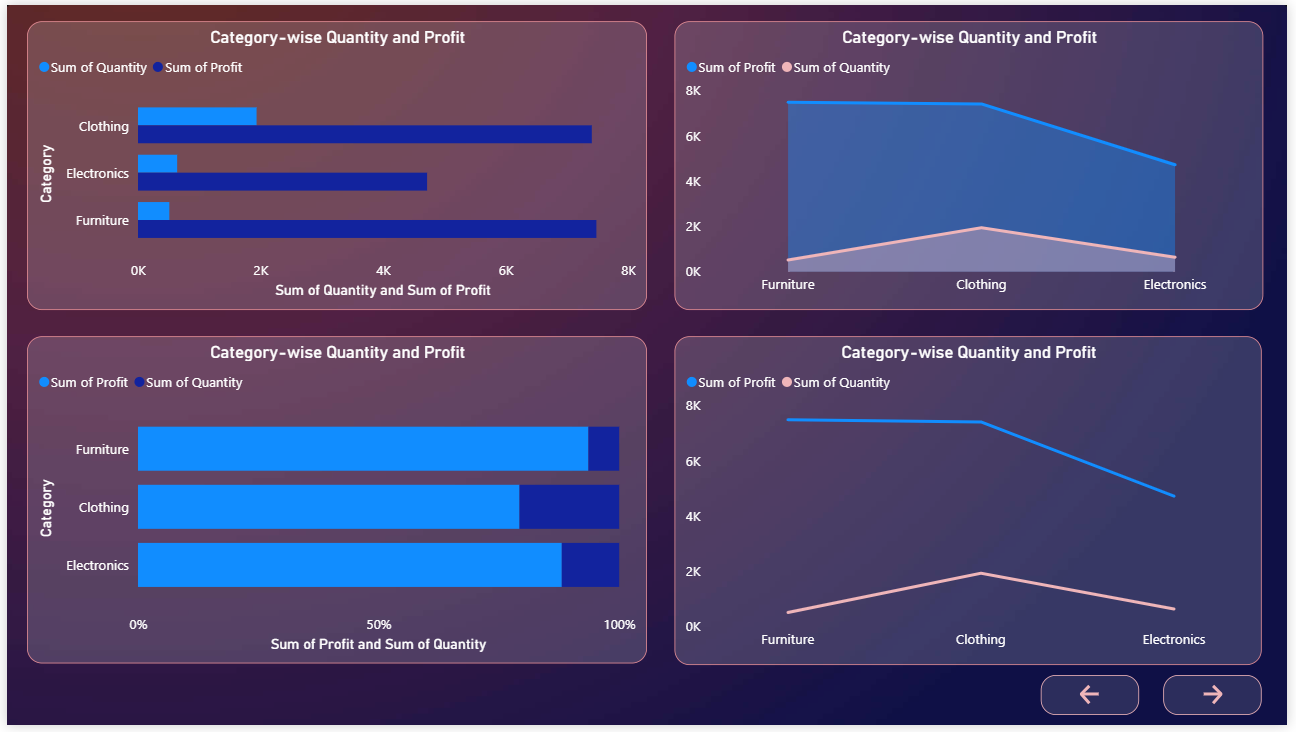

Layout of this report page (visuals, bound fields, positions):
{"tool":"powerbi","page":{"name":"Dashboard 4","canvas":[1280,720],"ordinal":3},"visuals":[{"type":"clusteredBarChart","title":"Category-wise Quantity and Profit","fields":{"Category":["Details.Category"],"Y":["Sum(Details.Quantity)","Sum(Details.Profit)"]},"box":[20,16.2,620,288.8],"z":0},{"type":"hundredPercentStackedBarChart","title":"Category-wise Quantity and Profit","fields":{"Category":["Details.Category"],"Y":["Sum(Details.Profit)","Sum(Details.Quantity)"]},"box":[20,331.2,620,327.5],"z":1000},{"type":"lineChart","title":"Category-wise Quantity and Profit","fields":{"Category":["Details.Category"],"Y":["Sum(Details.Profit)","Sum(Details.Quantity)"]},"box":[667.5,331.2,587.5,328.8],"z":2000},{"type":"areaChart","title":"Category-wise Quantity and Profit","fields":{"Category":["Details.Category"],"Y":["Sum(Details.Profit)","Sum(Details.Quantity)"]},"box":[667.5,16.2,588.8,288.8],"z":3000},{"type":"actionButton","box":[1156.2,670,98.8,40],"z":4000},{"type":"actionButton","box":[1033.8,670,98.8,40],"z":5000}]}

Visuals, with their boxes in screenshot pixels (x1, y1, x2, y2), scaled from the page's 1280x720 canvas onto the 1296x732 screenshot:
"Category-wise Quantity and Profit" clusteredBarChart: (left=20, top=16, right=648, bottom=310)
"Category-wise Quantity and Profit" hundredPercentStackedBarChart: (left=20, top=337, right=648, bottom=670)
"Category-wise Quantity and Profit" lineChart: (left=676, top=337, right=1271, bottom=671)
"Category-wise Quantity and Profit" areaChart: (left=676, top=16, right=1272, bottom=310)
actionButton: (left=1171, top=681, right=1271, bottom=722)
actionButton: (left=1047, top=681, right=1147, bottom=722)
